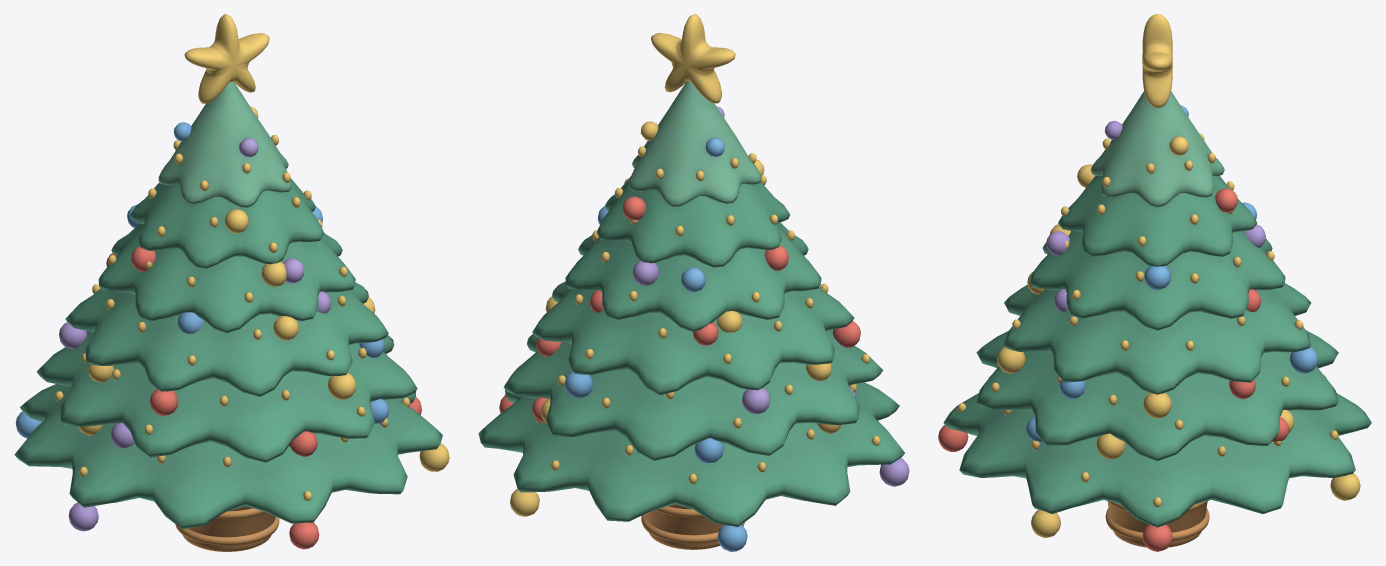
Rendered from christmas-tree.glb.
3 views of the same model, side by side, from view 1: azimuth 30°, elevation 25°; view 2: azimuth 150°, elevation 25°; view 3: azimuth 270°, elevation 25° (orthographic).
Parts seen in each view (by area): view 1: christmas-tree_body; view 2: christmas-tree_body; view 3: christmas-tree_body.
Boxes of the visible parts, x1=… form: christmas-tree_body: x1=14, y1=14, x2=449, y2=551; christmas-tree_body: x1=478, y1=14, x2=909, y2=551; christmas-tree_body: x1=938, y1=14, x2=1371, y2=551.
Size of the model in its own units: 2 by 2.62 by 2.
1 material, 1 textured.
